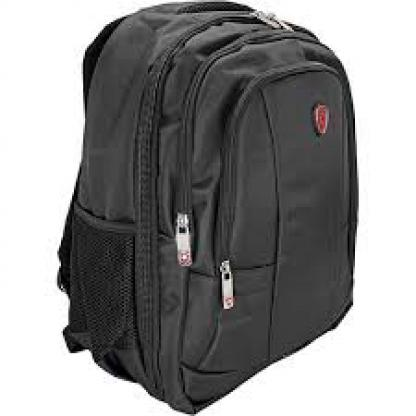morral: (48, 2, 372, 414)
